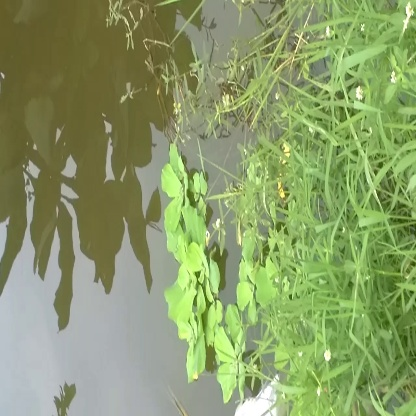leaf: (158, 149, 210, 238)
